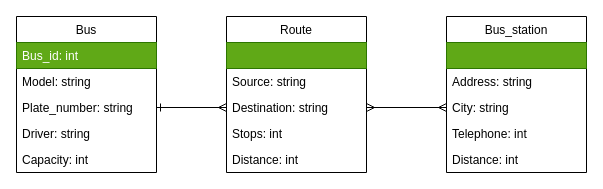
This 603x189 diagram has some shape labels left out. Here are the shapes that lost their labels. From the top down, the centre of each, then its label:
At point 296,55: "Route_id: int".
At point 516,55: "Station_id: int".
